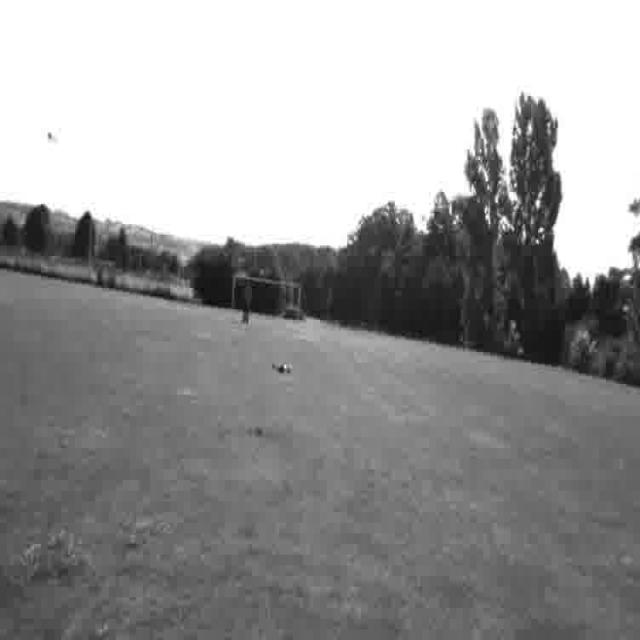drone: (268, 356, 292, 377)
